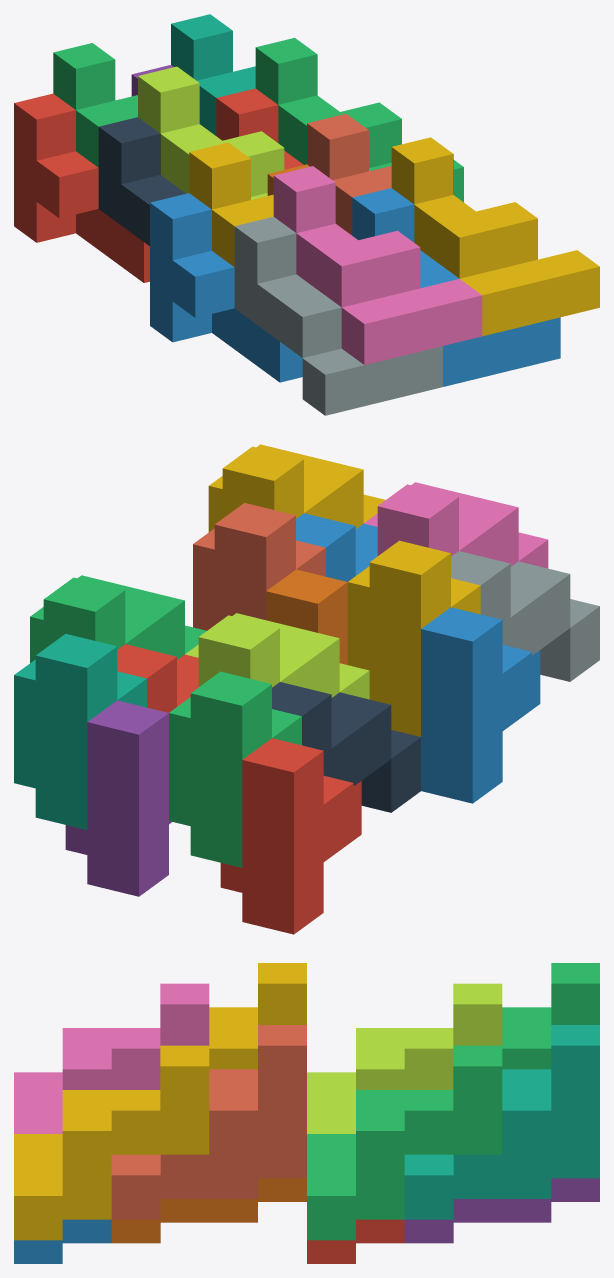
Rendered from tiling.obj.
3 views of the same model, one above another, from view 1: azimuth 30°, elevation 25°; view 2: azimuth 150°, elevation 25°; view 3: azimuth 270°, elevation 25° (orthographic). The views are drawn at different scales.
Visible parts, largest first — view 1: copy_2_domain_4, copy_2_domain_8, copy_2_domain_2, copy_1_domain_2, copy_1_domain_1, copy_2_domain_6, copy_2_domain_7, copy_2_domain_3, copy_2_domain_1, copy_1_domain_3, copy_1_domain_4, copy_1_domain_8 (+2 smaller); view 2: copy_1_domain_1, copy_1_domain_2, copy_1_domain_5, copy_1_domain_7, copy_1_domain_3, copy_1_domain_4, copy_2_domain_2, copy_2_domain_1, copy_1_domain_8, copy_2_domain_8, copy_2_domain_3, copy_2_domain_4 (+4 smaller); view 3: copy_2_domain_8, copy_2_domain_7, copy_1_domain_7, copy_1_domain_8, copy_2_domain_4, copy_2_domain_3, copy_1_domain_3, copy_1_domain_4, copy_1_domain_5, copy_1_domain_6, copy_2_domain_6, copy_2_domain_5.
Boxes of the visible parts, x1,y1,x2,y2 form: copy_2_domain_4: (273,166,482,364); copy_2_domain_8: (391,137,599,336); copy_2_domain_2: (234,216,442,415); copy_1_domain_2: (150,193,302,382); copy_1_domain_1: (14,93,149,282); copy_2_domain_6: (352,188,560,386); copy_2_domain_7: (255,37,463,202); copy_2_domain_3: (138,66,284,199); copy_2_domain_1: (98,117,185,245); copy_1_domain_3: (53,43,137,167); copy_1_domain_4: (189,142,273,266); copy_1_domain_8: (307,114,391,235); copy_1_domain_1: (220,738,361,934); copy_1_domain_2: (421,607,540,803); copy_1_domain_5: (65,700,171,896); copy_1_domain_7: (14,633,146,829); copy_1_domain_3: (169,671,301,867); copy_1_domain_4: (347,540,480,736); copy_2_domain_2: (451,551,599,681); copy_2_domain_1: (272,682,420,812); copy_1_domain_8: (193,503,325,630); copy_2_domain_8: (208,444,385,532); copy_2_domain_3: (185,613,369,699); copy_2_domain_4: (364,482,548,568); copy_2_domain_8: (14,1045,209,1240); copy_2_domain_7: (307,1045,502,1240); copy_1_domain_7: (404,1025,599,1219); copy_1_domain_8: (111,1025,306,1219); copy_2_domain_4: (14,983,209,1133); copy_2_domain_3: (307,983,502,1133); copy_1_domain_3: (502,963,599,1069); copy_1_domain_4: (209,963,306,1069); copy_1_domain_5: (404,1178,599,1243); copy_1_domain_6: (111,1178,306,1243); copy_2_domain_6: (14,1219,111,1263); copy_2_domain_5: (307,1219,404,1263).
Bounding box in the file's own units: 8 × 4 × 12.
